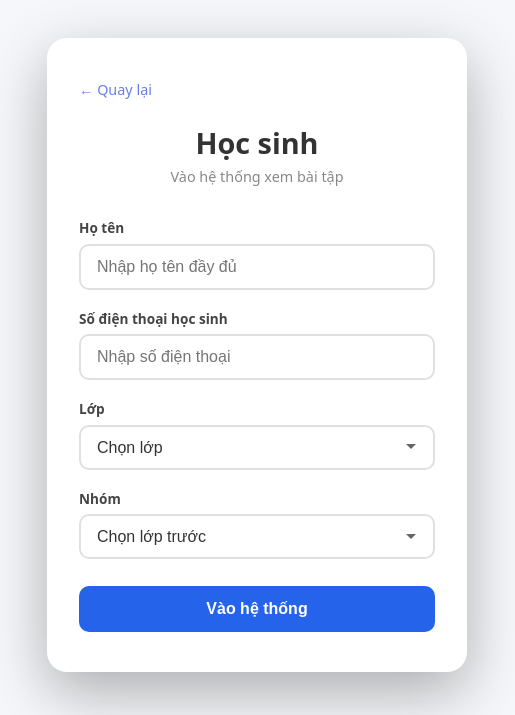
Trang đăng nhập học sinh — chuẩn hóa dữ liệu nhập › báo lỗi và không tìm học sinh khi họ tên có số hoặc ký tự đặc biệt
Type "Nguyễn Trang Nhung 2" into the field with id "fullName" at (257, 266), box [79, 244, 435, 290]
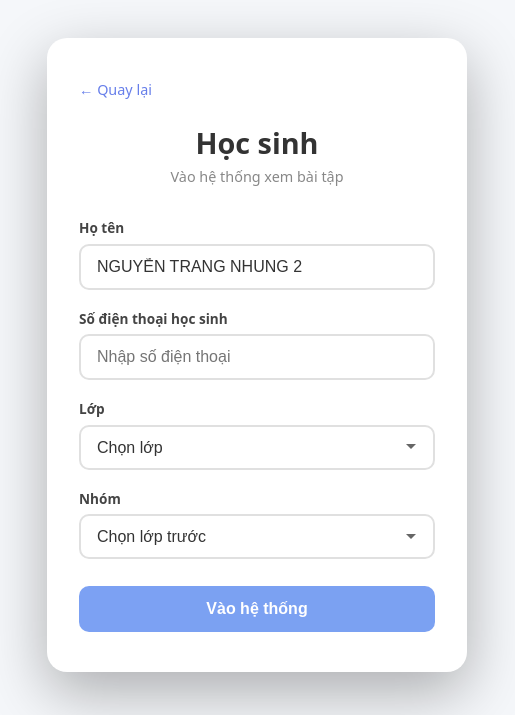
Type "0853434156" into the field labelled "Số điện thoại học sinh" at (257, 357), box [79, 334, 435, 380]
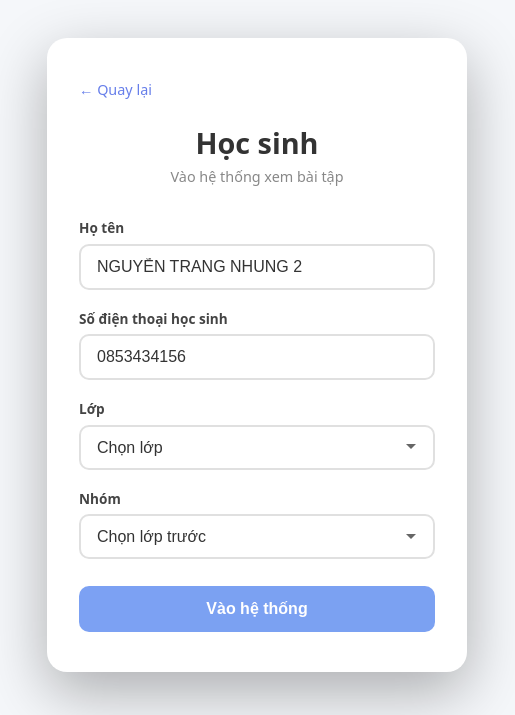
Select "Toán 10" in the dropdown with id "className" at (257, 447), box [79, 425, 435, 470]
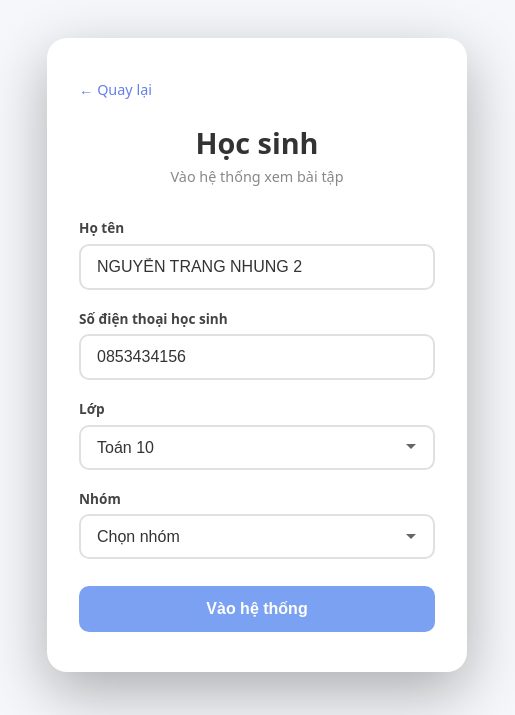
Select "Nhóm 1B" in the dropdown with id "groupId" at (257, 537), box [79, 514, 435, 559]
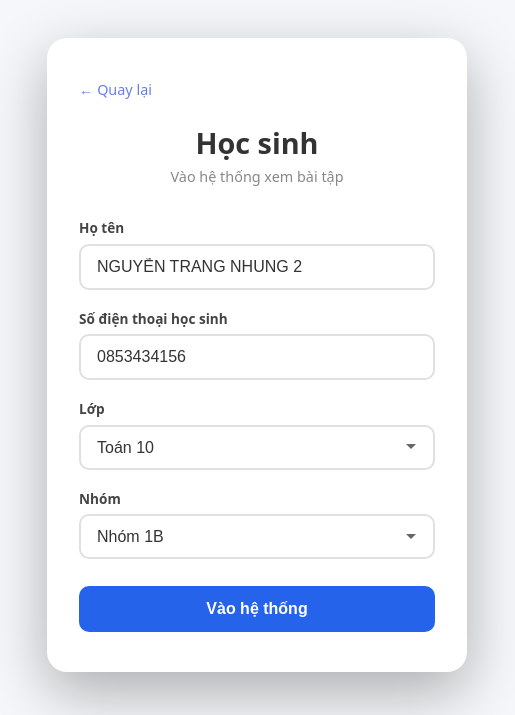
Submit the form, box [79, 218, 435, 632]
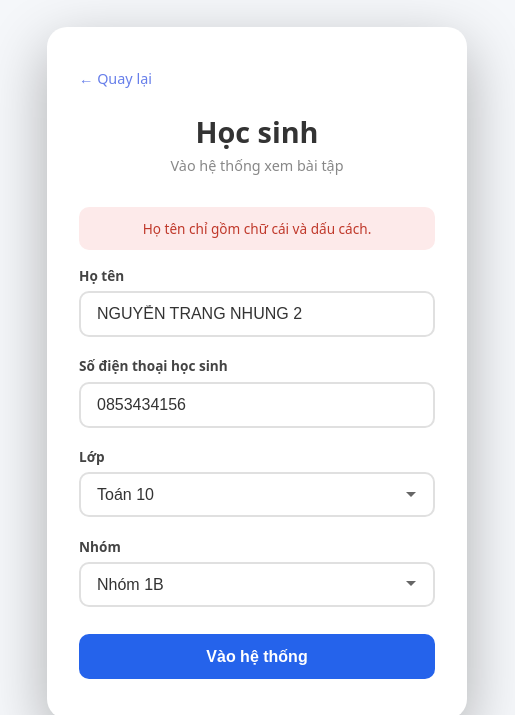
expect the text with class "error" reads "Họ tên chỉ gồm chữ cái và dấu cách.": met, box [143, 219, 371, 238]
